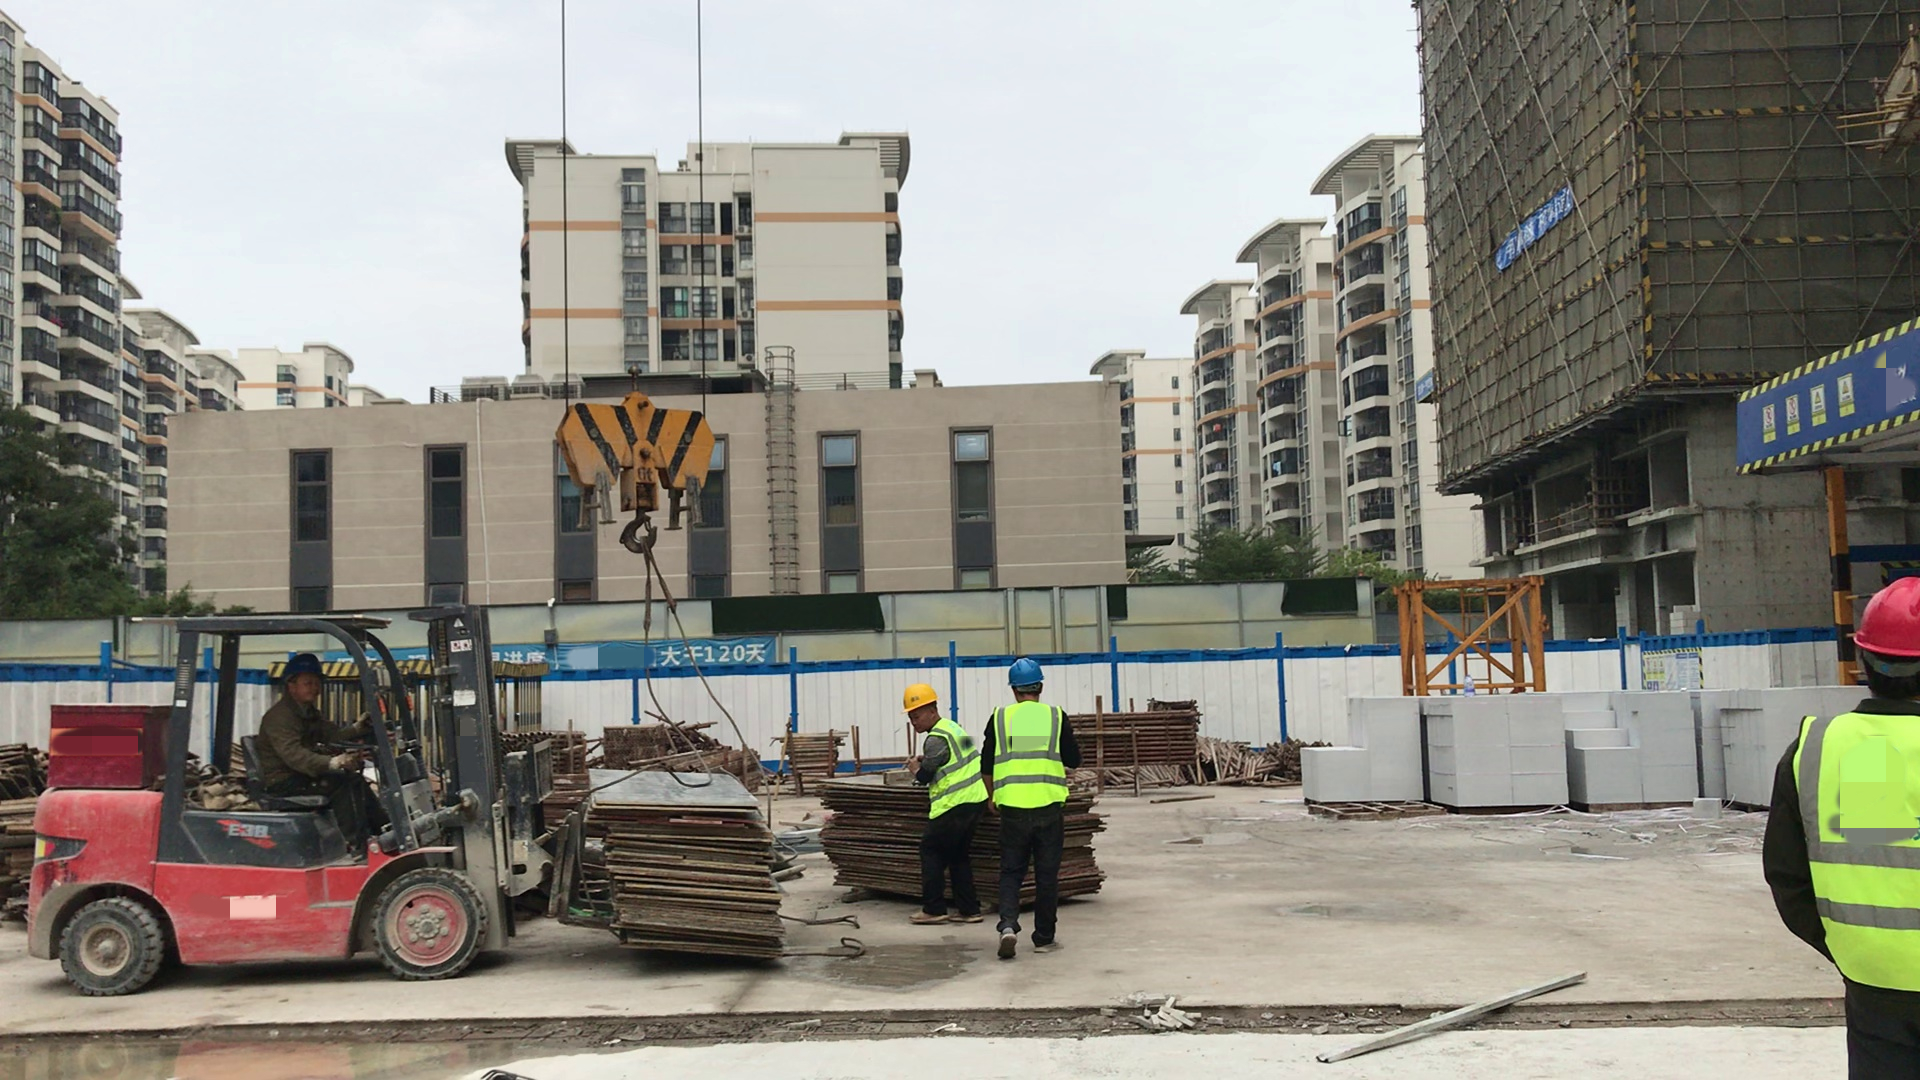board: (806, 762, 1125, 920), (575, 756, 801, 978), (1, 739, 48, 836)
brick: (1292, 682, 1896, 822)
helmet: (1825, 565, 1920, 664), (1001, 650, 1066, 692), (894, 674, 947, 719), (271, 651, 328, 692)
hook: (546, 351, 741, 596)
person: (1754, 535, 1920, 1079), (978, 638, 1106, 979), (248, 639, 424, 849), (883, 662, 998, 939)
scaffold: (594, 719, 848, 780), (1068, 705, 1209, 769), (499, 726, 595, 778)
slogan: (1713, 319, 1920, 478), (335, 628, 781, 688), (1475, 189, 1580, 274), (1630, 631, 1714, 697), (1407, 365, 1438, 418)
vest: (1782, 704, 1920, 997), (983, 697, 1074, 819), (906, 715, 990, 819)
